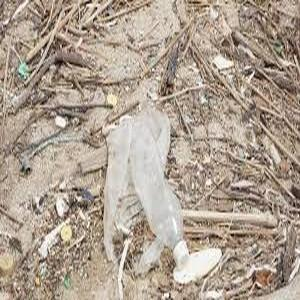Plastic: (132, 111, 191, 268)
